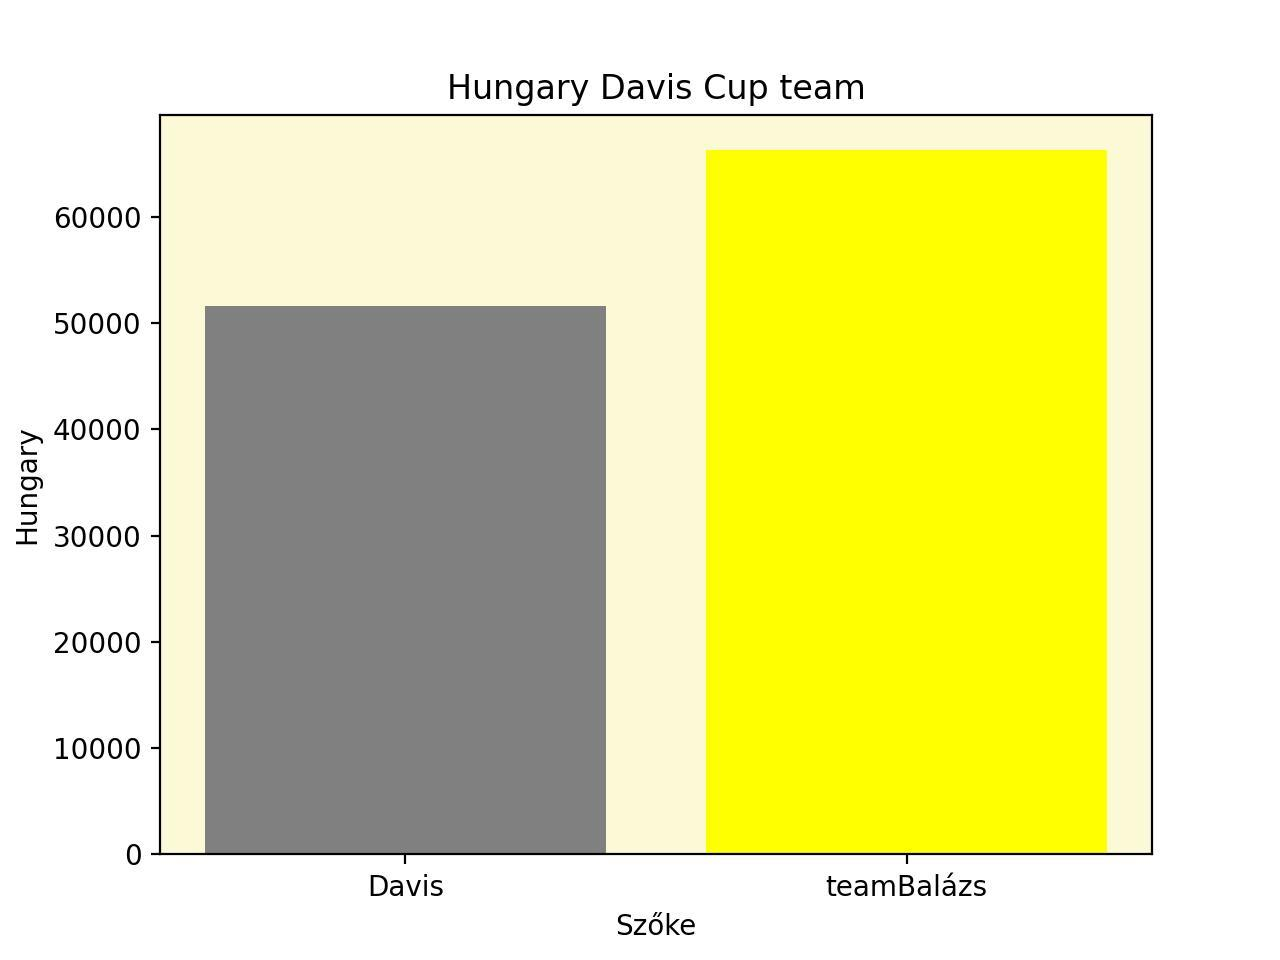axis: (13, 206, 141, 871)
rectangle: (706, 150, 1107, 854), (205, 307, 606, 854)
